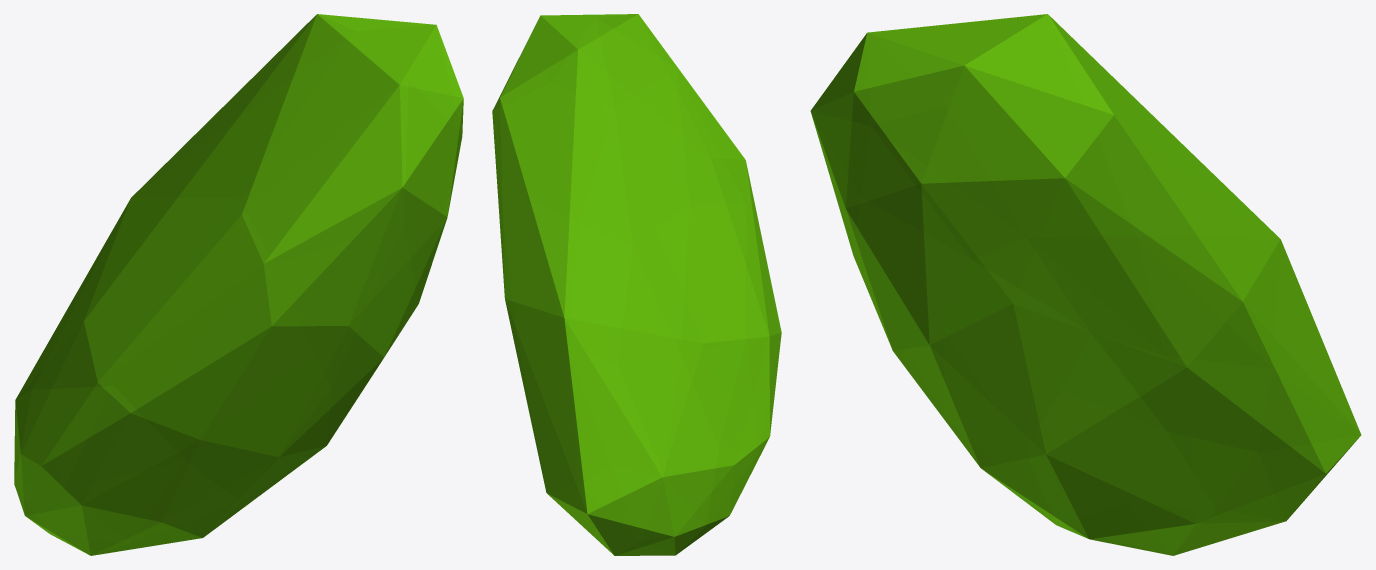
File: EarthstoneParticle.fbx
3 renders of one model, left to right at view 1: azimuth 30°, elevation 25°; view 2: azimuth 150°, elevation 25°; view 3: azimuth 270°, elevation 25°, orthographic. The views are drawn at different scales.
Visible parts, largest first — view 1: EarthstoneParticle; view 2: EarthstoneParticle; view 3: EarthstoneParticle.
Part boxes in pixels (x1,y1,x2,y2): EarthstoneParticle: (14, 14, 463, 555); EarthstoneParticle: (492, 14, 781, 555); EarthstoneParticle: (810, 14, 1361, 555).
Size of the model in its own units: 0.8336 by 1.2 by 0.9749.
